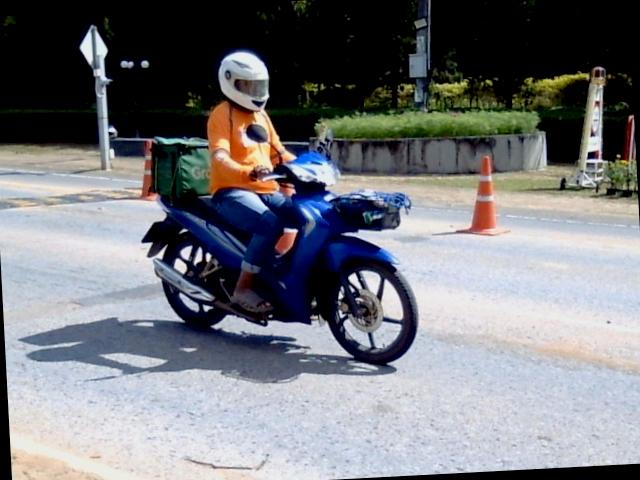helmet: (219, 52, 268, 109)
motor: (141, 145, 417, 363)
person: (207, 51, 297, 312)
